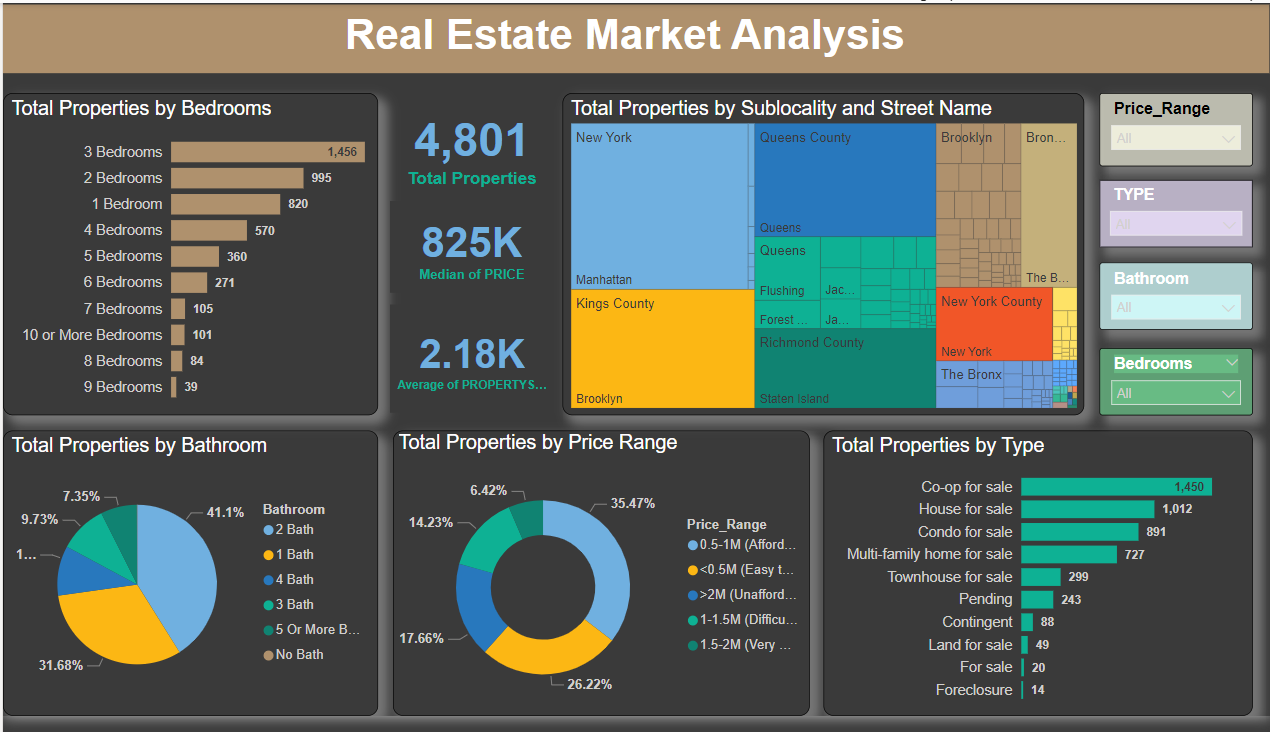

The dashboard page shown, as its layout file describes it:
{"tool":"powerbi","page":{"name":"Page 1","canvas":[1280,720],"ordinal":0},"visuals":[{"type":"card","fields":{"Values":["Measure Table.Total Properties"]},"box":[378.6,80.3,169.6,95.4],"z":0},{"type":"clusteredBarChart","fields":{"Category":["DIm_Bath1.Bathroom"],"Y":["Measure Table.Total Properties"]},"box":[0,393.7,393.7,325.6],"z":1000},{"type":"barChart","fields":{"Category":["Dim_Bedroom1.Bedrooms"],"Y":["Measure Table.Total Properties"]},"box":[0,81.8,393.7,292.2],"z":2000},{"type":"donutChart","fields":{"Category":["Dim_Price1.Price_Range"],"Y":["Measure Table.Total Properties"]},"box":[393.7,411.9,420.9,307.4],"z":3000},{"type":"treemap","fields":{"Group":["Dim_Sublocality.SUBLOCALITY"],"Values":["Measure Table.Total Properties"],"Details":["Dim_Street.STREET_NAME"]},"box":[564.8,81.8,526.9,330.1],"z":4000},{"type":"pieChart","fields":{"Category":["Dim_Type_of_property.TYPE"],"Y":["Measure Table.Total Properties"]},"box":[835.8,416.4,443.7,302.8],"z":5000},{"type":"textbox","box":[0,1.9,1279.4,79.4],"z":6000},{"type":"card","fields":{"Values":["Median(Fact_Table.PRICE)"]},"box":[372.5,175.6,175.6,92.4],"z":7000},{"type":"card","fields":{"Values":["Avg(Fact_Table.PROPERTYSQFT)"]},"box":[363.4,268,201.4,106],"z":8000},{"type":"slicer","fields":{"Values":["Dim_Price1.Price_Range"]},"box":[1106.9,90.9,172.6,74.2],"z":9000},{"type":"slicer","fields":{"Values":["Fact_Table.Bathroom"]},"box":[1106.9,262,172.6,68.1],"z":9001},{"type":"slicer","fields":{"Values":["Dim_Type_of_property.TYPE"]},"box":[1106.9,178.7,172.6,68.1],"z":9002},{"type":"slicer","fields":{"Values":["Dim_Bedroom1.Bedrooms"]},"box":[1106.9,348.3,172.6,68.1],"z":9003}]}

Visuals, with their boxes in screenshot pixels (x1, y1, x2, y2), scaled from the page's 1280x720 canvas onto the 1270x732 screenshot:
card - Measure Table.Total Properties: box=[376, 82, 544, 179]
clusteredBarChart - DIm_Bath1.Bathroom x Measure Table.Total Properties: box=[0, 400, 391, 731]
barChart - Dim_Bedroom1.Bedrooms x Measure Table.Total Properties: box=[0, 83, 391, 380]
donutChart - Dim_Price1.Price_Range x Measure Table.Total Properties: box=[391, 419, 808, 731]
treemap - Dim_Sublocality.SUBLOCALITY x Measure Table.Total Properties: box=[560, 83, 1083, 419]
pieChart - Dim_Type_of_property.TYPE x Measure Table.Total Properties: box=[829, 423, 1269, 731]
textbox: box=[0, 2, 1269, 83]
card - Median(Fact_Table.PRICE): box=[370, 179, 544, 272]
card - Avg(Fact_Table.PROPERTYSQFT): box=[361, 272, 560, 380]
slicer - Dim_Price1.Price_Range: box=[1098, 92, 1269, 168]
slicer - Fact_Table.Bathroom: box=[1098, 266, 1269, 336]
slicer - Dim_Type_of_property.TYPE: box=[1098, 182, 1269, 251]
slicer - Dim_Bedroom1.Bedrooms: box=[1098, 354, 1269, 423]
